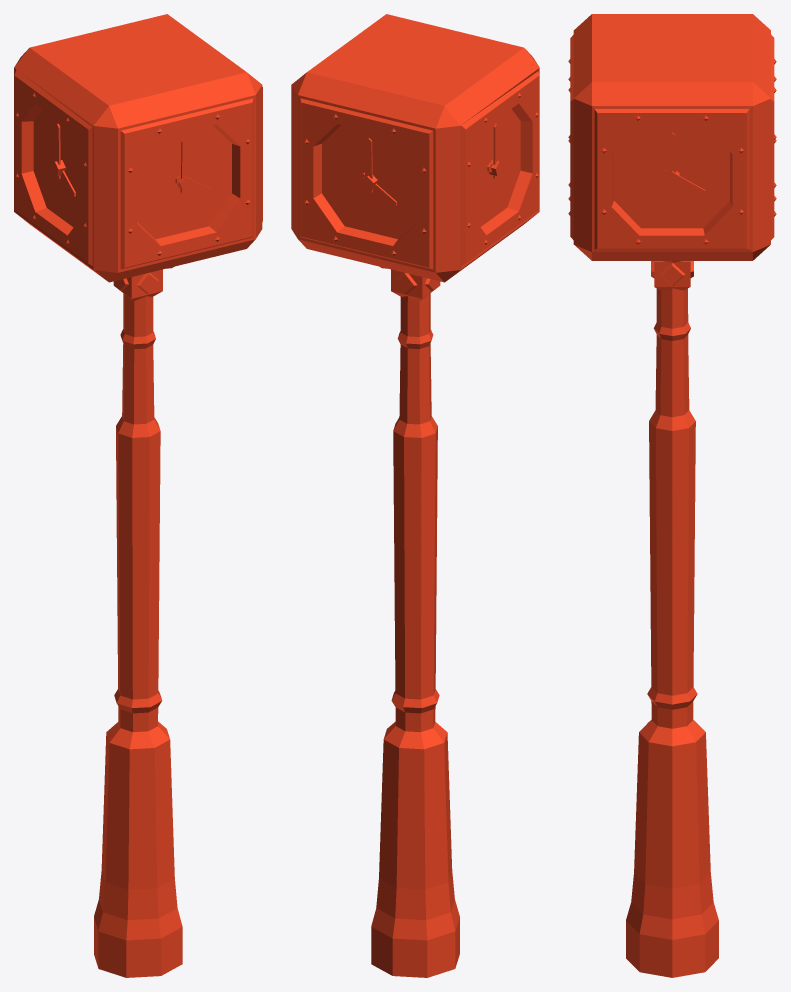
File: SM_Clock_A_City.fbx
3 views of the same model, side by side, from view 1: azimuth 30°, elevation 25°; view 2: azimuth 150°, elevation 25°; view 3: azimuth 270°, elevation 25° (orthographic).
Visible parts, largest first — view 1: SM_Clock_A_City; view 2: SM_Clock_A_City; view 3: SM_Clock_A_City.
Part boxes in pixels (left/top/right/bottom): SM_Clock_A_City: left=14, top=14, right=262, bottom=977; SM_Clock_A_City: left=291, top=14, right=539, bottom=977; SM_Clock_A_City: left=568, top=14, right=776, bottom=977.
Bounding box in the file's own units: 0.709 × 3.42 × 0.7092.
